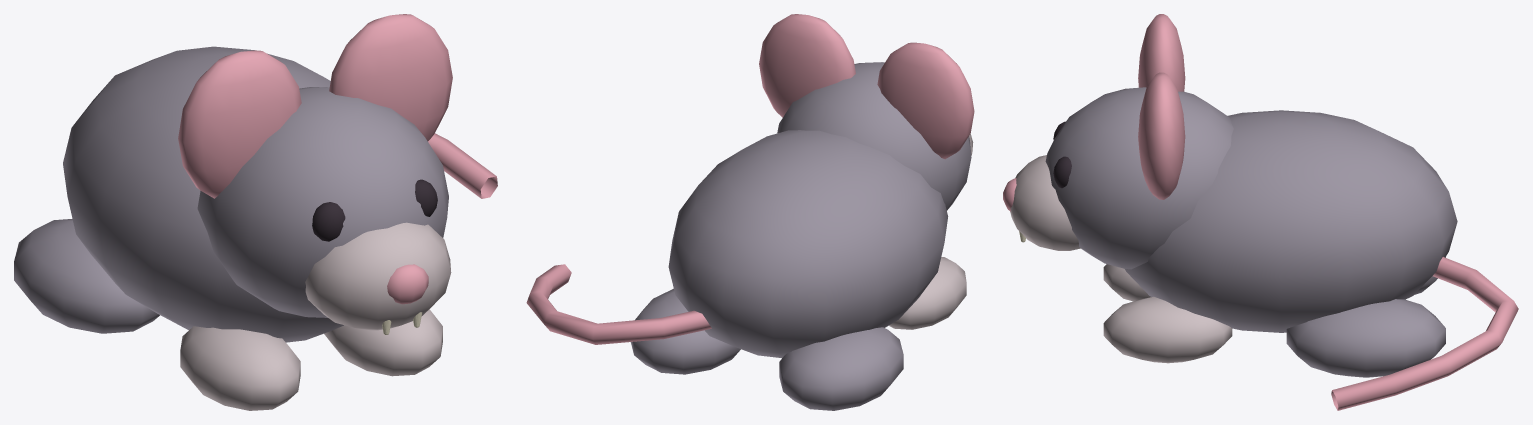
The model's file is training-rat.glb.
3 views of the same model, side by side, from view 1: azimuth 30°, elevation 25°; view 2: azimuth 150°, elevation 25°; view 3: azimuth 270°, elevation 25° (orthographic). The views are drawn at different scales.
Visible parts, largest first — view 1: body, head, ear_-1, muzzle, ear_1, paw_back_-1, paw_front_-1, paw_front_1, tail, nose, eye_L, eye_R; view 2: body, head, paw_back_-1, ear_-1, ear_1, tail, paw_back_1, paw_front_-1; view 3: body, head, paw_back_1, tail, paw_front_1, ear_1, muzzle, ear_-1, paw_front_-1.
Part boxes in pixels (left/top/right/bottom): body: left=63, top=46, right=343, bottom=342; head: left=197, top=87, right=448, bottom=317; ear_-1: left=178, top=50, right=301, bottom=198; muzzle: left=305, top=222, right=451, bottom=330; ear_1: left=329, top=14, right=452, bottom=141; paw_back_-1: left=14, top=219, right=159, bottom=333; paw_front_-1: left=180, top=326, right=300, bottom=410; paw_front_1: left=324, top=309, right=442, bottom=376; tail: left=428, top=133, right=497, bottom=198; nose: left=387, top=264, right=428, bottom=304; eye_L: left=312, top=202, right=345, bottom=241; eye_R: left=415, top=179, right=437, bottom=216; body: left=668, top=130, right=948, bottom=357; head: left=777, top=62, right=971, bottom=210; paw_back_-1: left=779, top=327, right=903, bottom=410; ear_-1: left=877, top=42, right=974, bottom=159; ear_1: left=759, top=14, right=855, bottom=117; tail: left=526, top=264, right=711, bottom=344; paw_back_1: left=630, top=288, right=740, bottom=374; paw_front_-1: left=889, top=257, right=966, bottom=329; body: left=1125, top=110, right=1457, bottom=332; head: left=1045, top=87, right=1233, bottom=269; paw_back_1: left=1286, top=299, right=1445, bottom=377; tail: left=1331, top=257, right=1518, bottom=410; paw_front_1: left=1103, top=296, right=1232, bottom=363; ear_1: left=1138, top=72, right=1185, bottom=199; muzzle: left=1010, top=155, right=1080, bottom=250; ear_-1: left=1138, top=14, right=1185, bottom=91; paw_front_-1: left=1103, top=264, right=1151, bottom=301.
Size of the model in its own units: 1.33 by 1 by 1.64.
